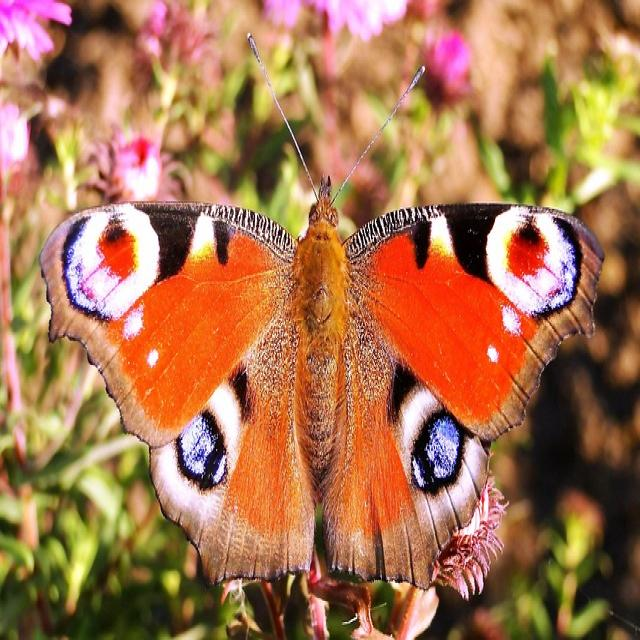butterfly: (38, 30, 604, 593)
